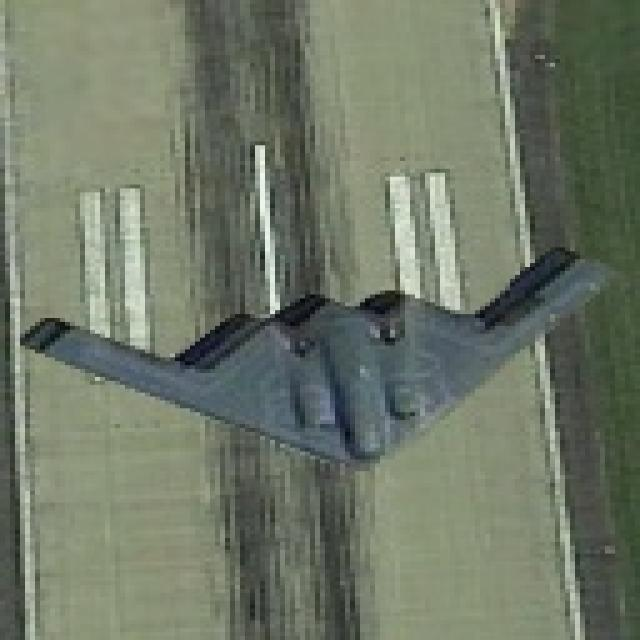B-2_TopDown: (15, 238, 615, 475)
